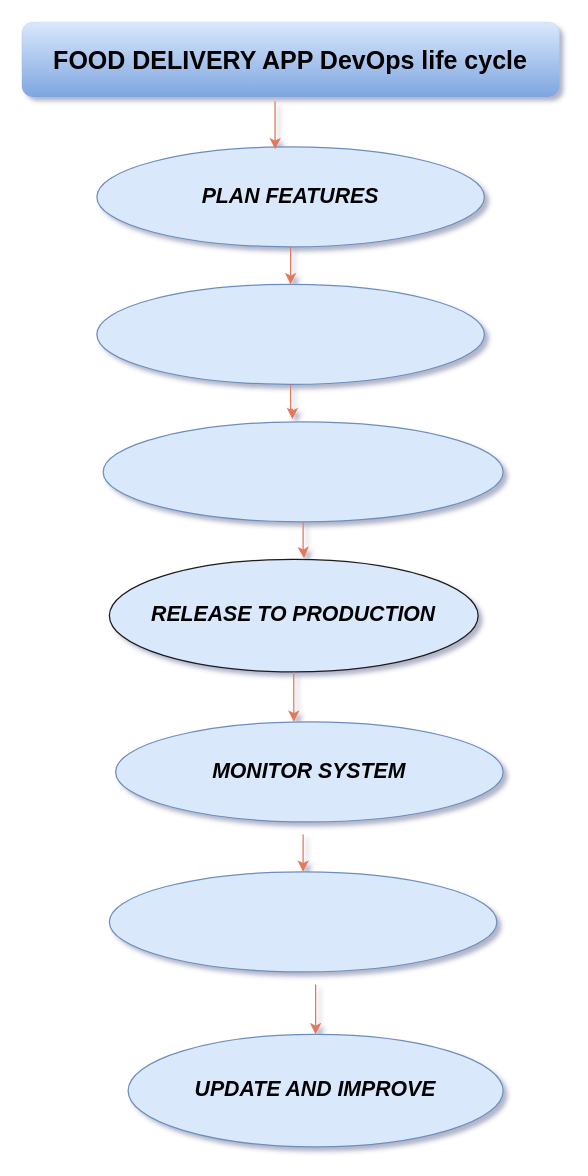
This 588x1176 diagram has some shape labels left out. The box of each missing label's shape, as (x1, y1, x2, y2) in pixels:
BUILD AND TEST: (102, 421, 503, 522)
DEVELOP CODE: (96, 283, 484, 384)
RECEIVE FEEDBACK: (108, 871, 497, 972)
